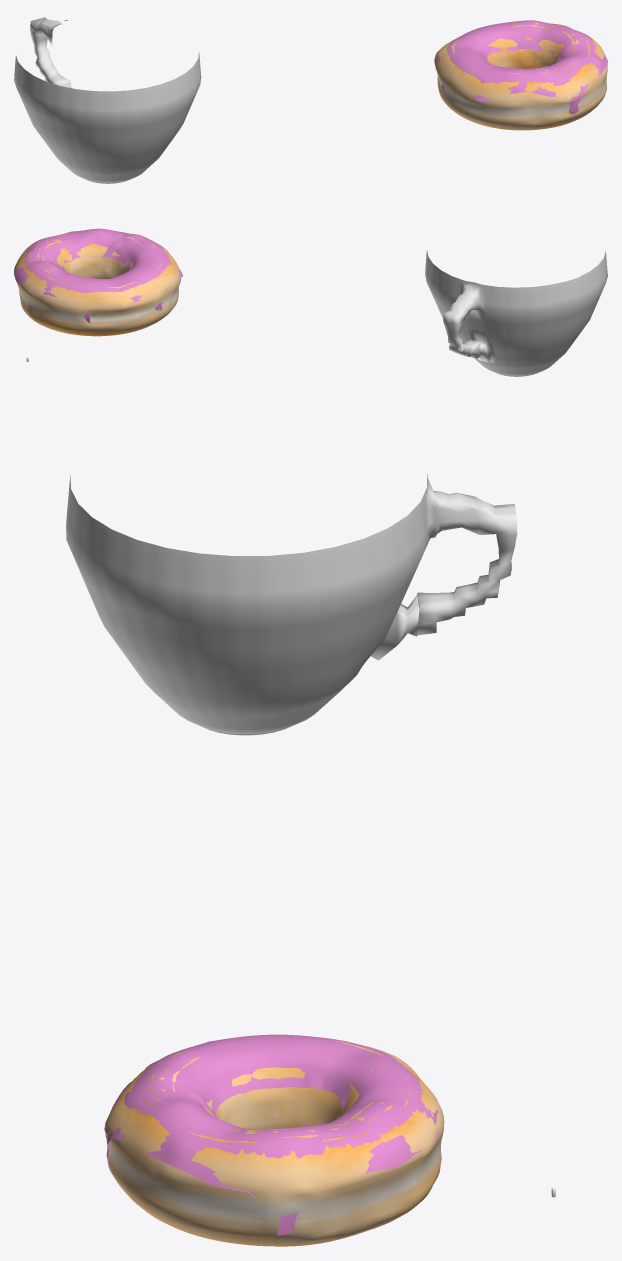
Rendered from Donut.glb.
3 renders of one model, top to bottom at view 1: azimuth 30°, elevation 25°; view 2: azimuth 150°, elevation 25°; view 3: azimuth 270°, elevation 25°, orthographic. The views are drawn at different scales.
Visible parts, largest first — view 1: Cylinder, Base, Icing; view 2: Cylinder, Base, Icing; view 3: Cylinder, Base, Icing.
Part boxes in pixels (x1,y1,x2,y2): Cylinder: (14, 17, 201, 183); Base: (434, 20, 607, 130); Icing: (435, 20, 607, 114); Cylinder: (425, 250, 607, 376); Base: (14, 230, 181, 336); Icing: (14, 228, 182, 322); Cylinder: (66, 473, 517, 735); Base: (104, 1035, 444, 1246); Icing: (105, 1034, 438, 1235).
Size of what is drawn, in the model's own units: 0.5796 by 0.1546 by 0.2177.
Materials: 3 (1 with a texture image).
